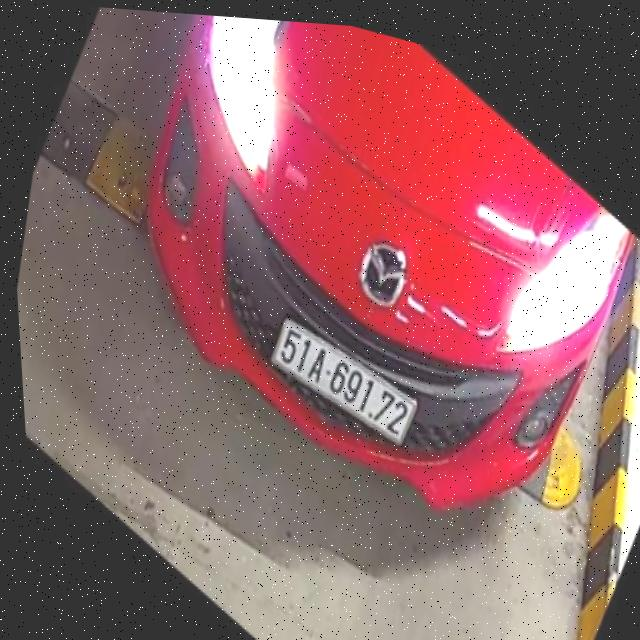car: (81, 6, 640, 563)
plate: (253, 306, 436, 458)
